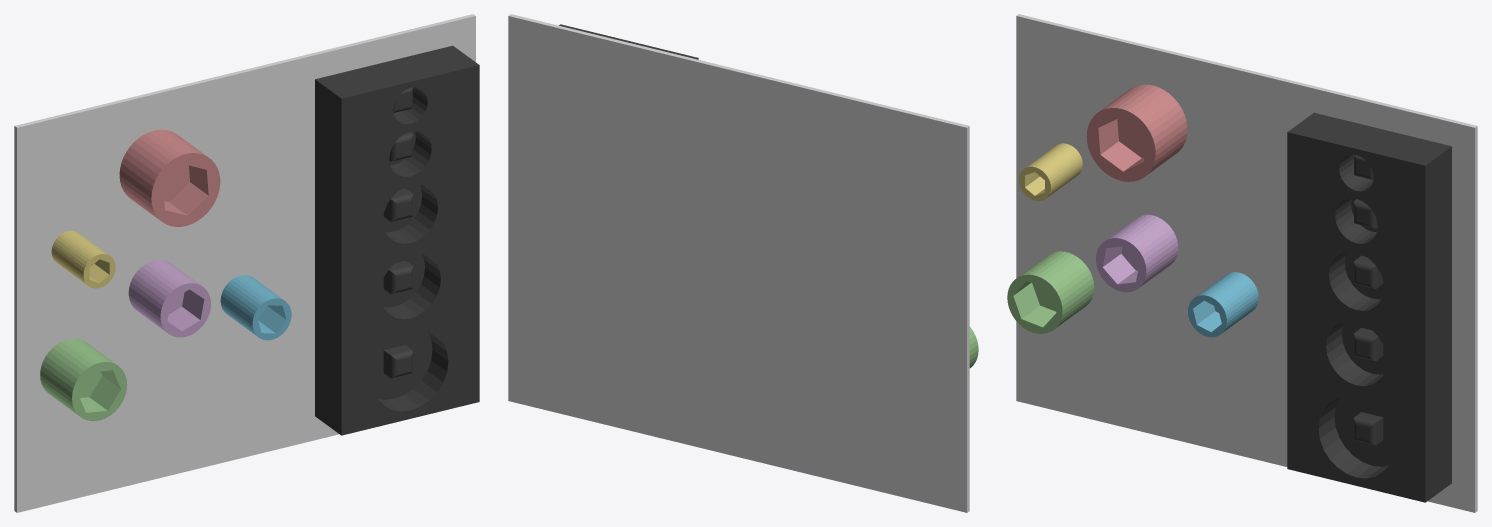
The model's file is pickup_layout.glb.
3 renders of one model, left to right at view 1: azimuth 30°, elevation 25°; view 2: azimuth 150°, elevation 25°; view 3: azimuth 330°, elevation 25°, orthographic.
Parts seen in each view (by area): view 1: world, 0.obj, 5.obj, 4.obj, 3.obj, 2.obj, 1.obj; view 2: world; view 3: world, 0.obj, 5.obj, 4.obj, 3.obj, 2.obj, 1.obj.
Boxes of the visible parts, box(x1,y1,x2,y2) form: world: box(14, 14, 475, 512); 0.obj: box(315, 45, 479, 435); 5.obj: box(119, 129, 220, 226); 4.obj: box(40, 338, 127, 421); 3.obj: box(128, 260, 210, 337); 2.obj: box(220, 275, 291, 340); 1.obj: box(51, 230, 115, 288); world: box(508, 14, 969, 512); world: box(1016, 14, 1477, 512); 0.obj: box(1287, 112, 1451, 502); 5.obj: box(1086, 84, 1187, 181); 4.obj: box(1007, 251, 1094, 333); 3.obj: box(1096, 214, 1178, 292); 2.obj: box(1188, 272, 1258, 337); 1.obj: box(1019, 143, 1082, 201).
Bounding box in the file's own units: 19.95 × 16 × 2.6.
1 material, 1 textured.
